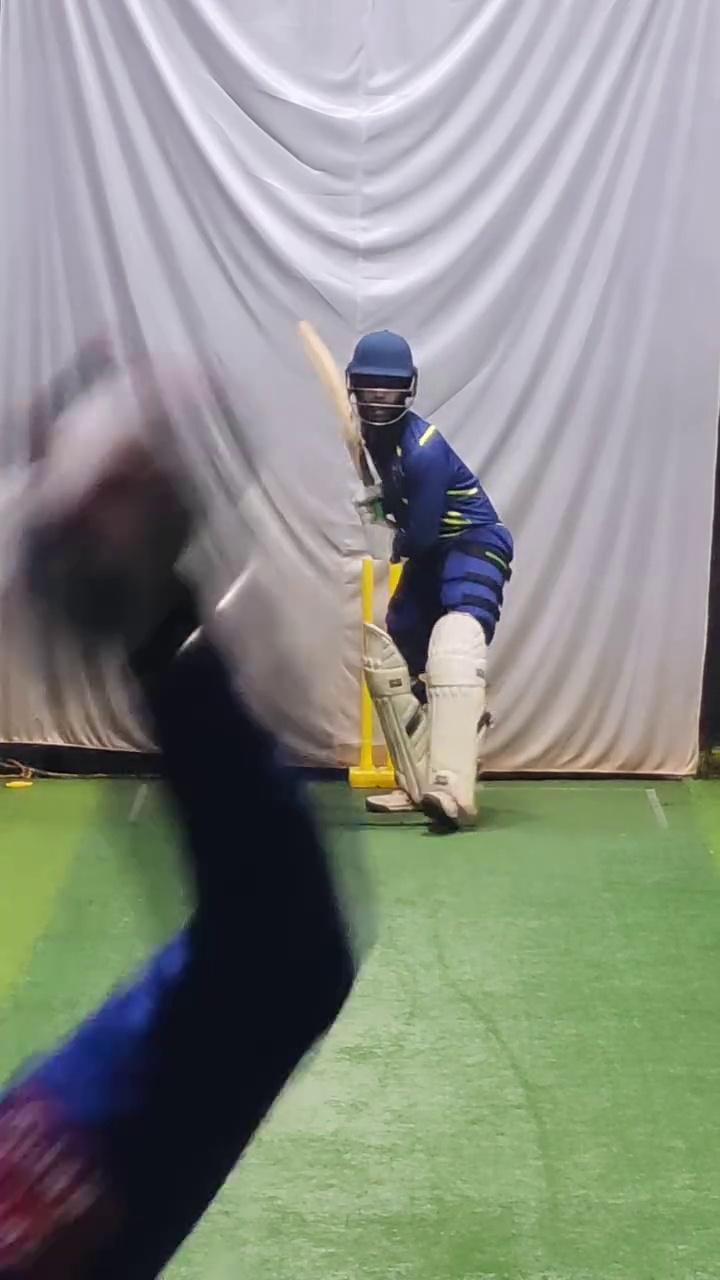bat: (294, 314, 376, 490)
